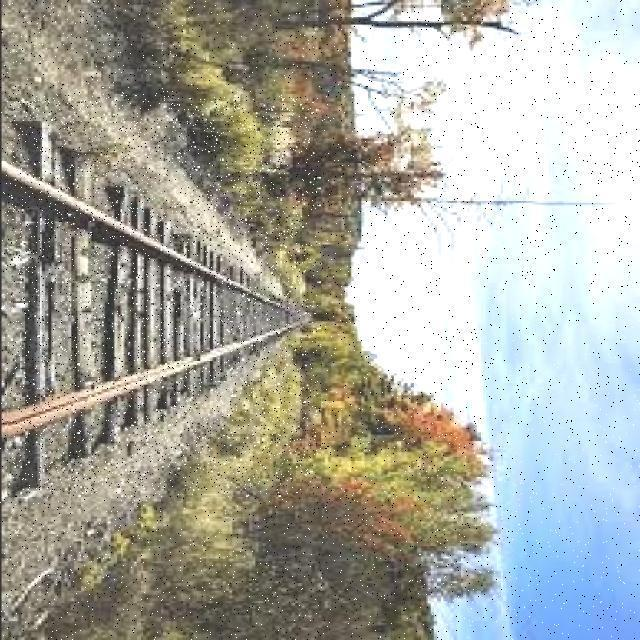rail: (8, 96, 318, 495)
